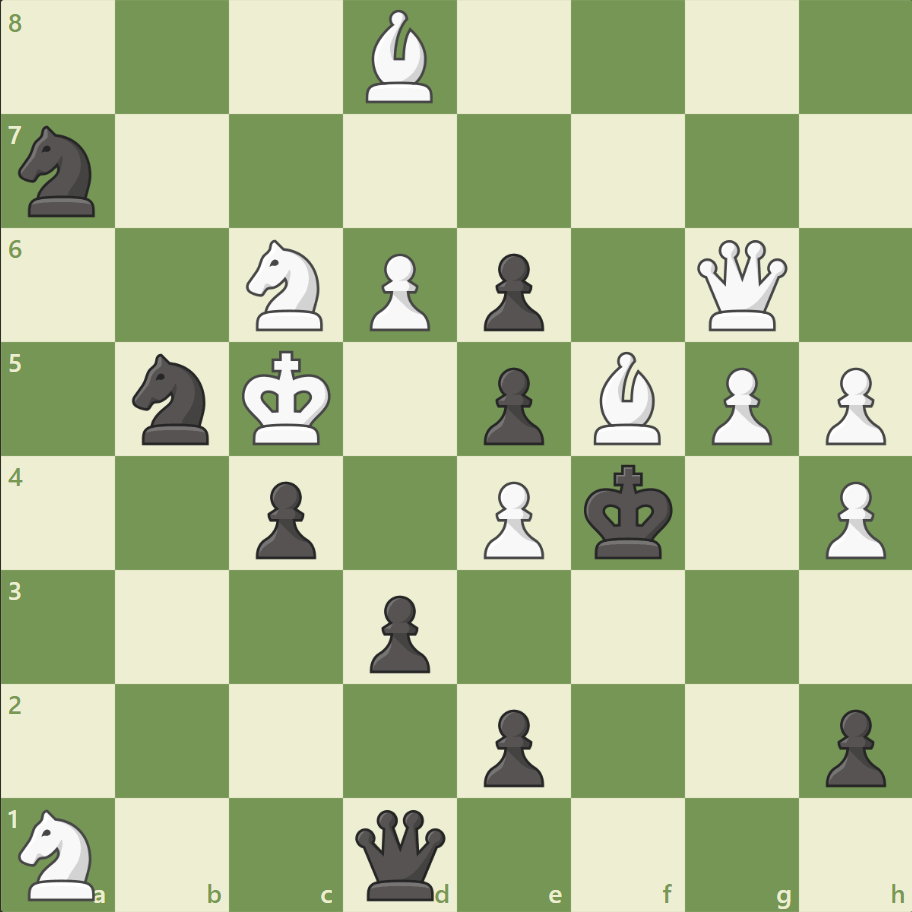B: (358, 6, 442, 109), (585, 347, 669, 449)
K: (238, 344, 338, 452)
N: (238, 234, 335, 337), (11, 802, 108, 904)
P: (701, 359, 776, 450), (474, 473, 549, 564), (361, 246, 435, 337), (815, 359, 889, 450), (815, 473, 889, 564)
Q: (691, 236, 790, 335)
k: (579, 458, 679, 566)
n: (124, 348, 222, 450), (11, 121, 108, 223)
p: (474, 246, 549, 337), (474, 359, 549, 450), (247, 473, 322, 564), (474, 700, 549, 791), (361, 586, 435, 677), (815, 700, 889, 791)
q: (351, 804, 450, 903)
